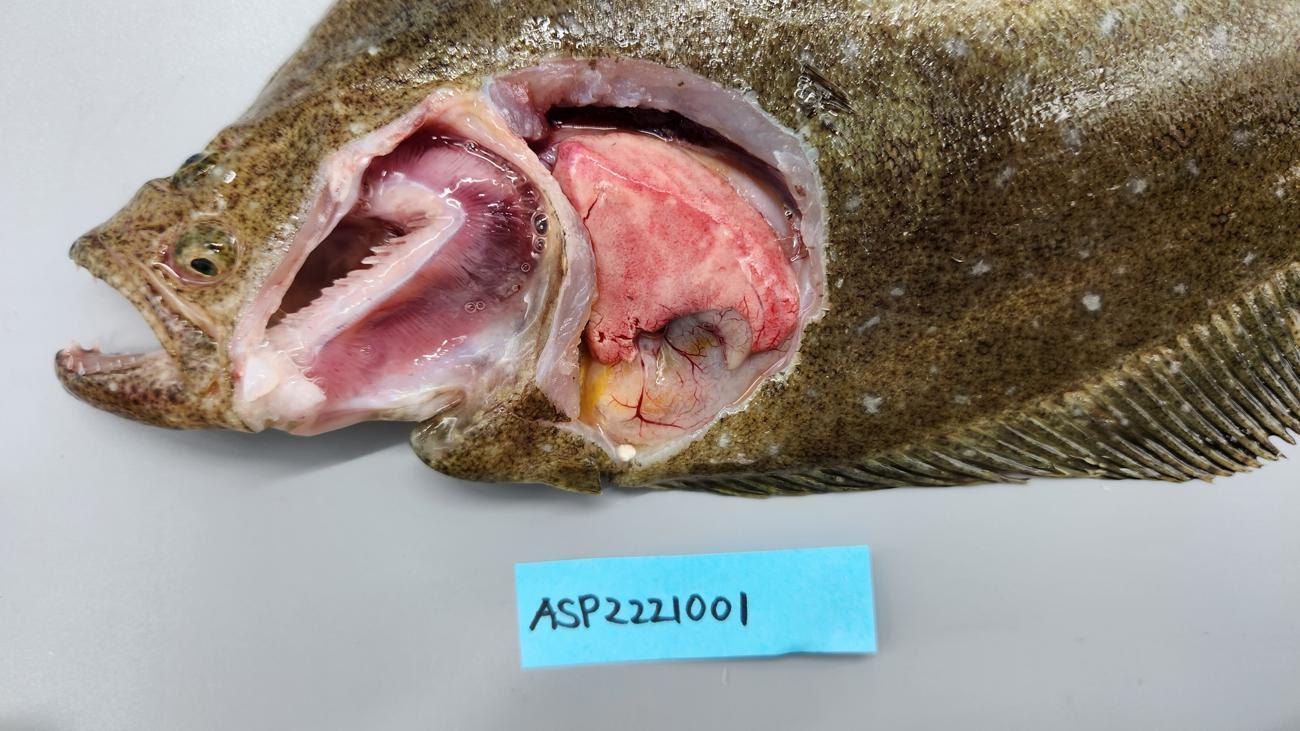SPGIP: (310, 124, 540, 400)
